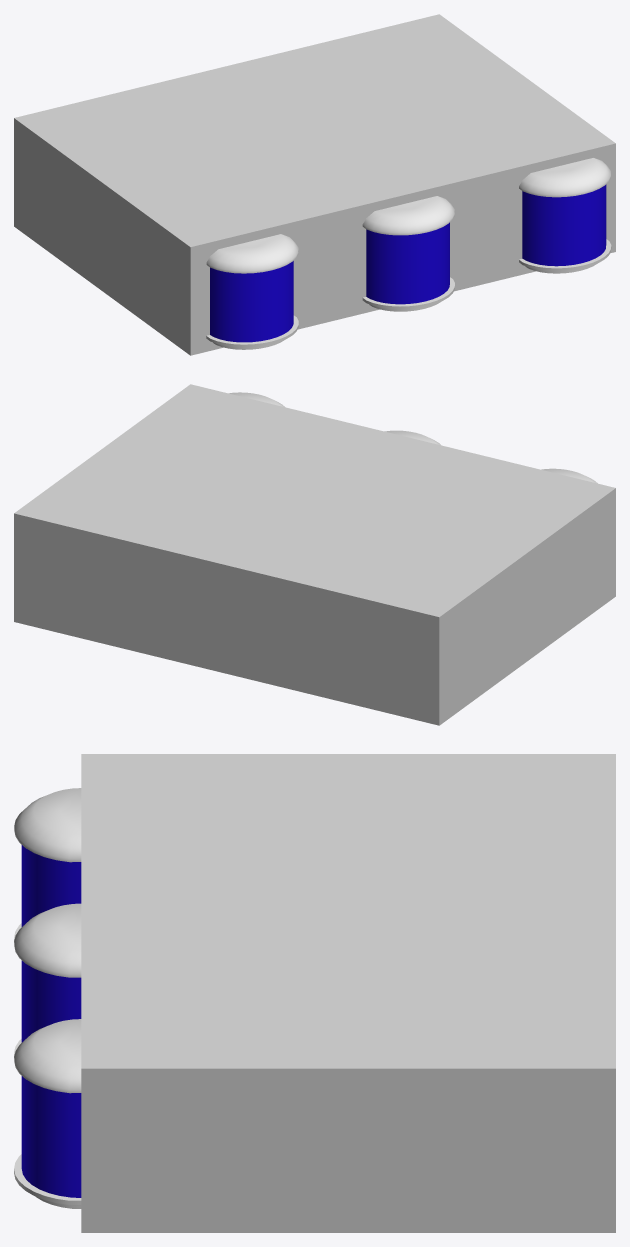
Rendered from BayWindowsBrick.fbx.
The picture shows the model from 3 angles, top to bottom: view 1: azimuth 30°, elevation 25°; view 2: azimuth 150°, elevation 25°; view 3: azimuth 270°, elevation 25°; orthographic projection. The views are drawn at different scales.
Visible parts, largest first — view 1: Cube.001, Cylinder.008; view 2: Cube.001, Cylinder.008; view 3: Cube.001, Cylinder.008.
Part boxes in pixels (x1,y1,x2,y2): Cube.001: (14,14,615,355); Cylinder.008: (206,158,611,349); Cube.001: (14,384,615,725); Cylinder.008: (229,392,597,483); Cube.001: (81,754,615,1232); Cylinder.008: (14,788,81,1208).
Size of the model in its own units: 1600 by 390 by 1295.
